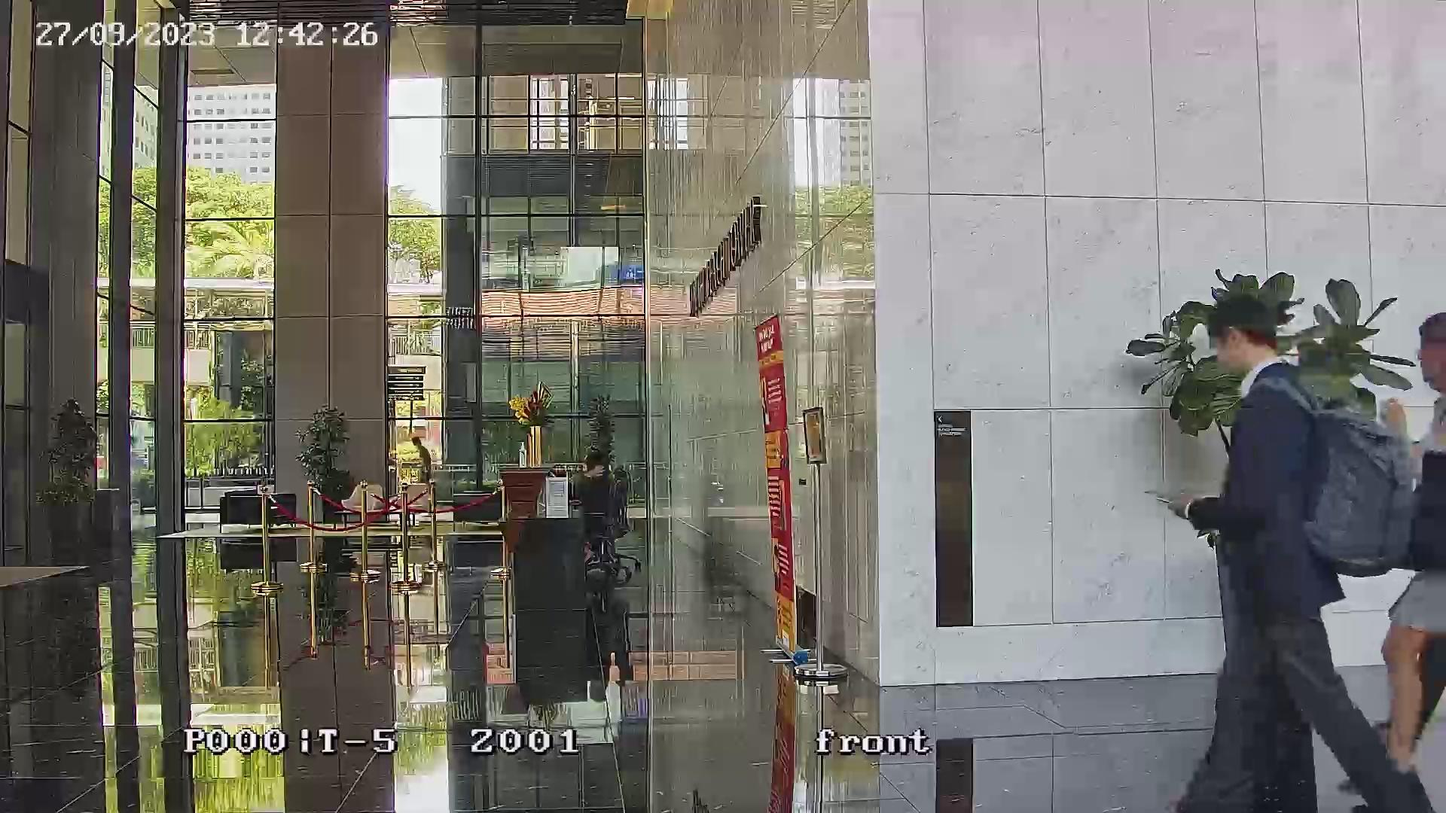person: (1167, 287, 1438, 811), (1380, 310, 1445, 781), (575, 451, 612, 529), (411, 435, 433, 485)
